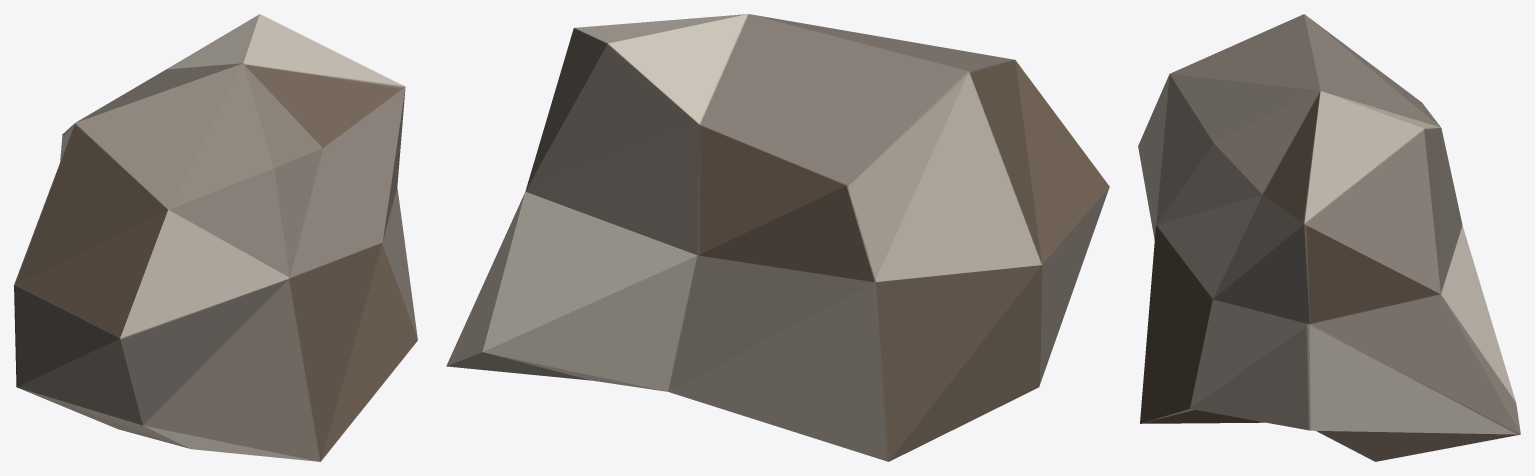
Rendered from Rock_Iteration_2_1.obj.
3 renders of one model, left to right at view 1: azimuth 30°, elevation 25°; view 2: azimuth 150°, elevation 25°; view 3: azimuth 270°, elevation 25°, orthographic. The views are drawn at different scales.
Visible parts, largest first — view 1: Rock_Iteration_2; view 2: Rock_Iteration_2; view 3: Rock_Iteration_2.
Boxes of the visible parts, box(x1,y1,x2,y2) form: Rock_Iteration_2: box(14, 14, 417, 461); Rock_Iteration_2: box(446, 14, 1109, 461); Rock_Iteration_2: box(1138, 14, 1520, 461).
Size of the model in its own units: 108 by 86.92 by 89.13.
